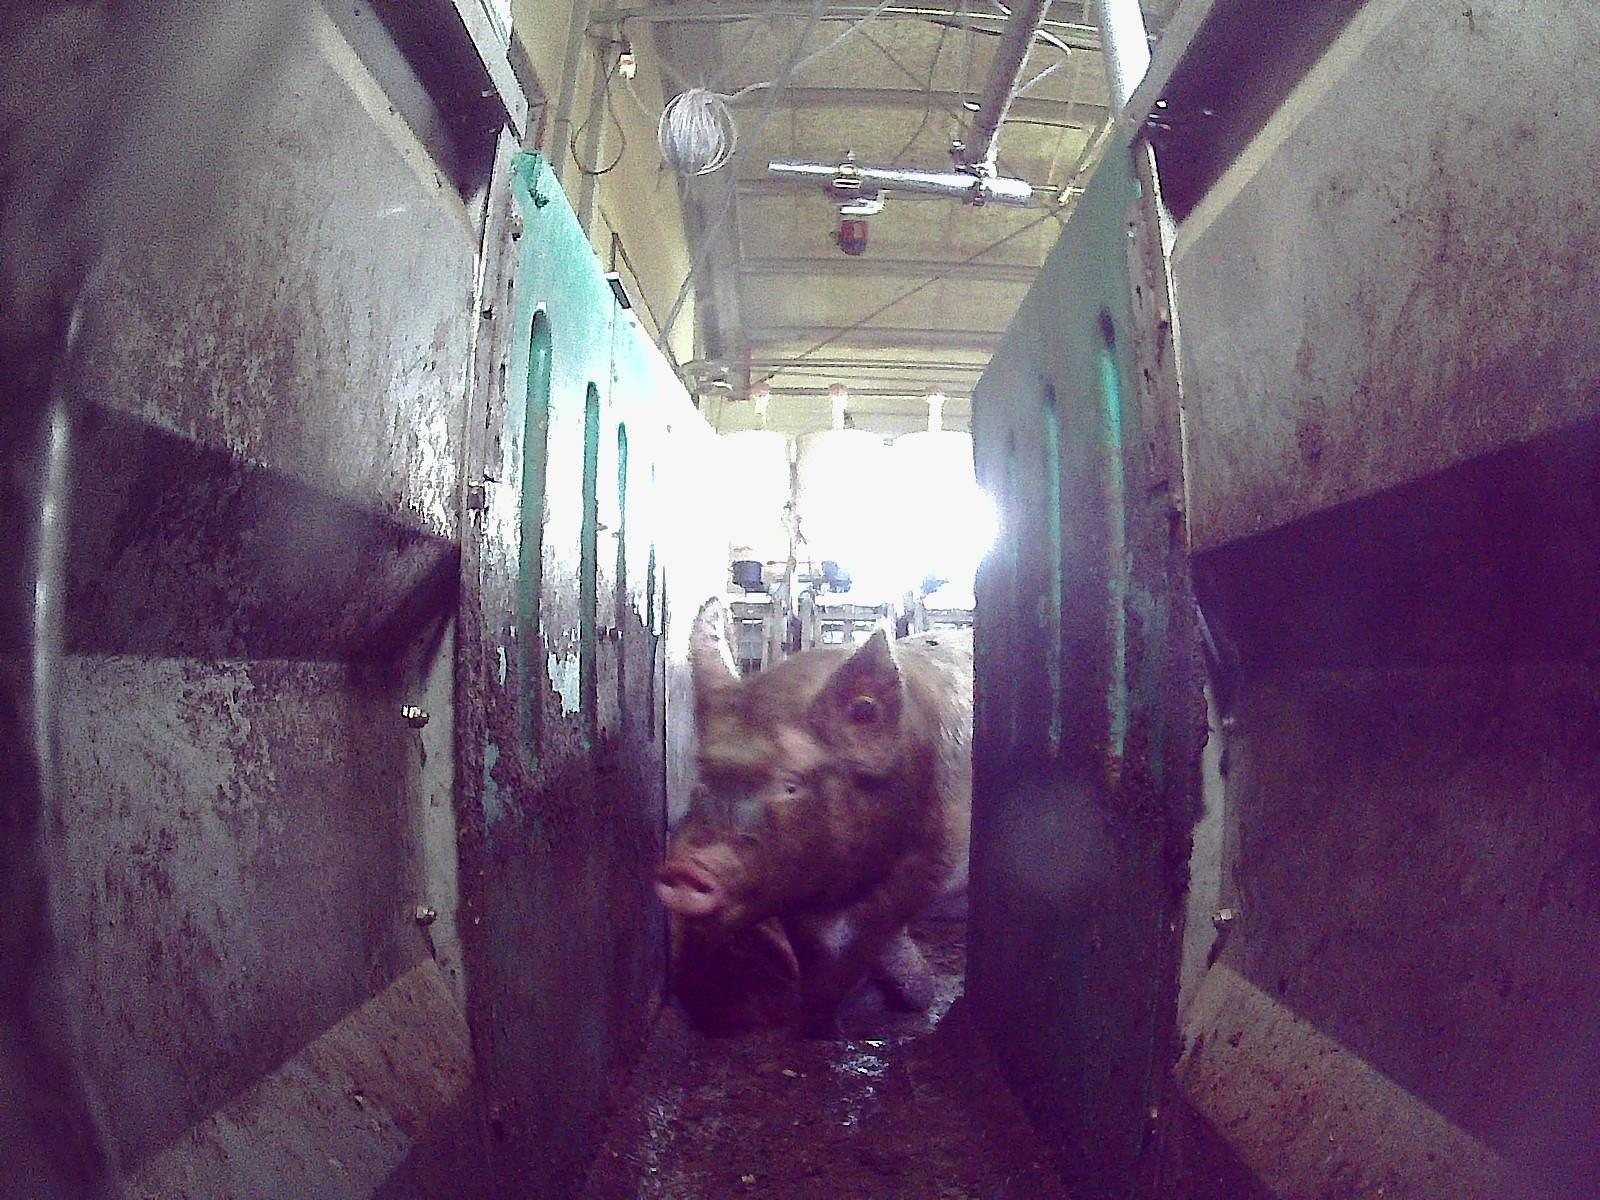Face: (653, 681, 854, 935)
